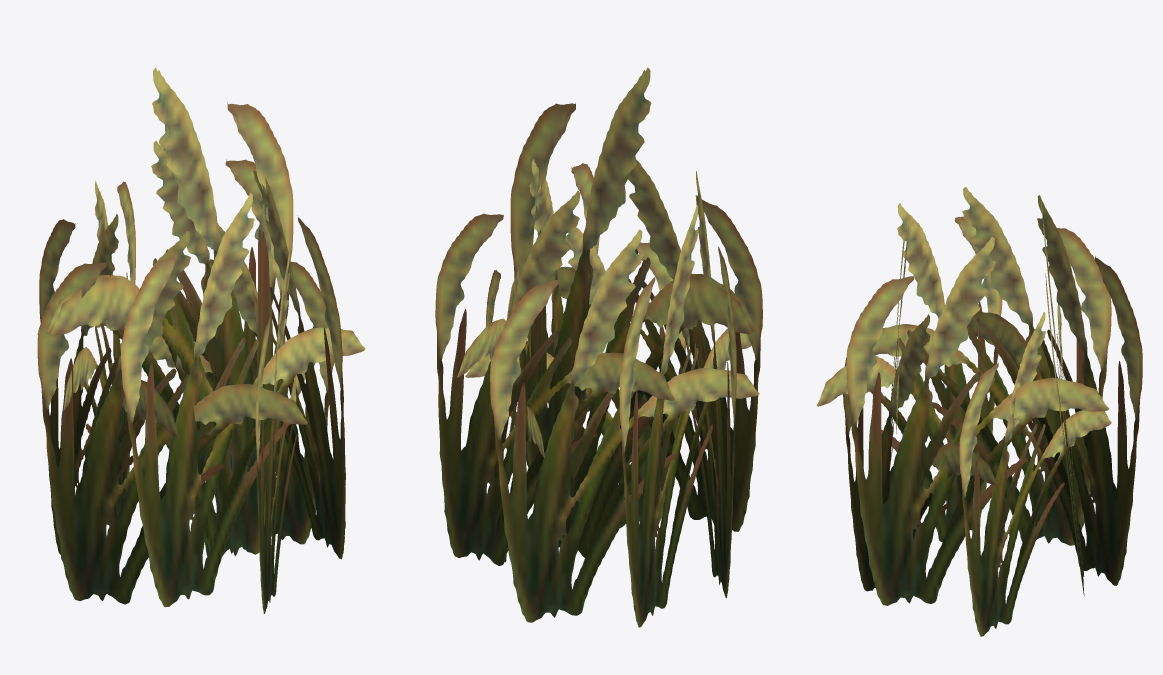
File: Battle01_Cao_013.FBX
The picture shows the model from 3 angles, left to right: view 1: azimuth 30°, elevation 25°; view 2: azimuth 150°, elevation 25°; view 3: azimuth 270°, elevation 25°; orthographic projection. The views are drawn at different scales.
Visible parts, largest first — view 1: Battle01_Cao_013; view 2: Battle01_Cao_013; view 3: Battle01_Cao_013.
Boxes of the visible parts, <box> form: Battle01_Cao_013: <box>37,67,365,613</box>; Battle01_Cao_013: <box>435,67,762,627</box>; Battle01_Cao_013: <box>817,187,1142,636</box>.
Size of the model in its own units: 0.568 by 1.01 by 0.605.
